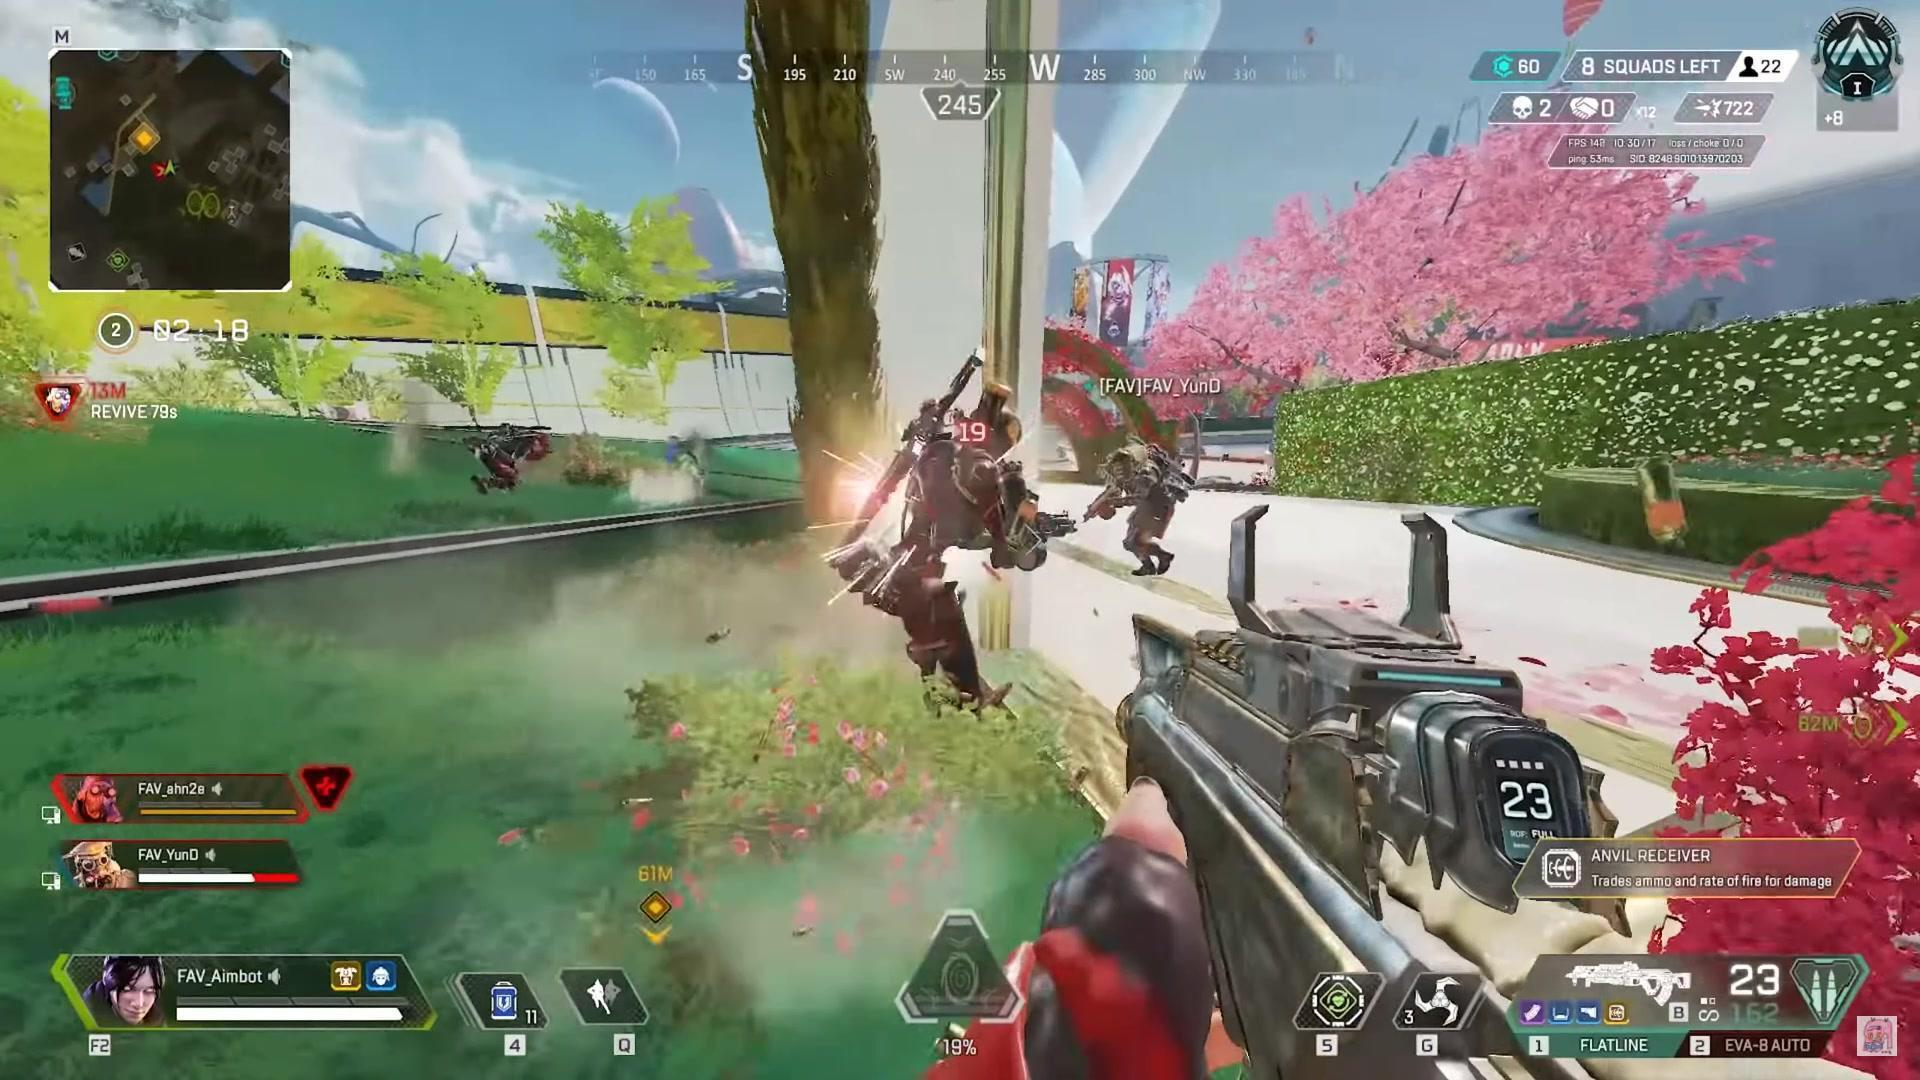avatar: (826, 381, 1027, 723), (1101, 443, 1199, 579)
